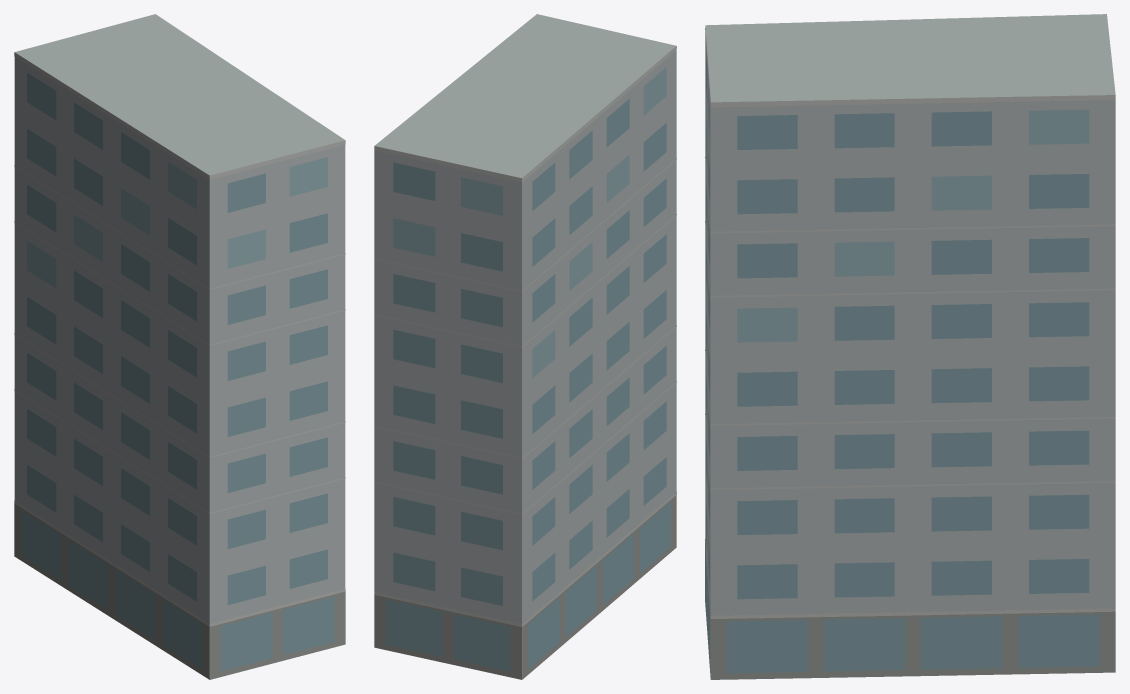
Rendered from survey-upis-32738180.glb.
The picture shows the model from 3 angles, left to right: view 1: azimuth 30°, elevation 25°; view 2: azimuth 150°, elevation 25°; view 3: azimuth 270°, elevation 25°; orthographic projection. The views are drawn at different scales.
Visible parts, largest first — view 1: survey-upis-32738180.tmp; view 2: survey-upis-32738180.tmp; view 3: survey-upis-32738180.tmp.
Part boxes in pixels (x1,y1,x2,y2): survey-upis-32738180.tmp: (14, 14, 345, 679); survey-upis-32738180.tmp: (374, 14, 676, 679); survey-upis-32738180.tmp: (705, 14, 1115, 679).
Size of the model in its own units: 9.21 by 28 by 18.06.
